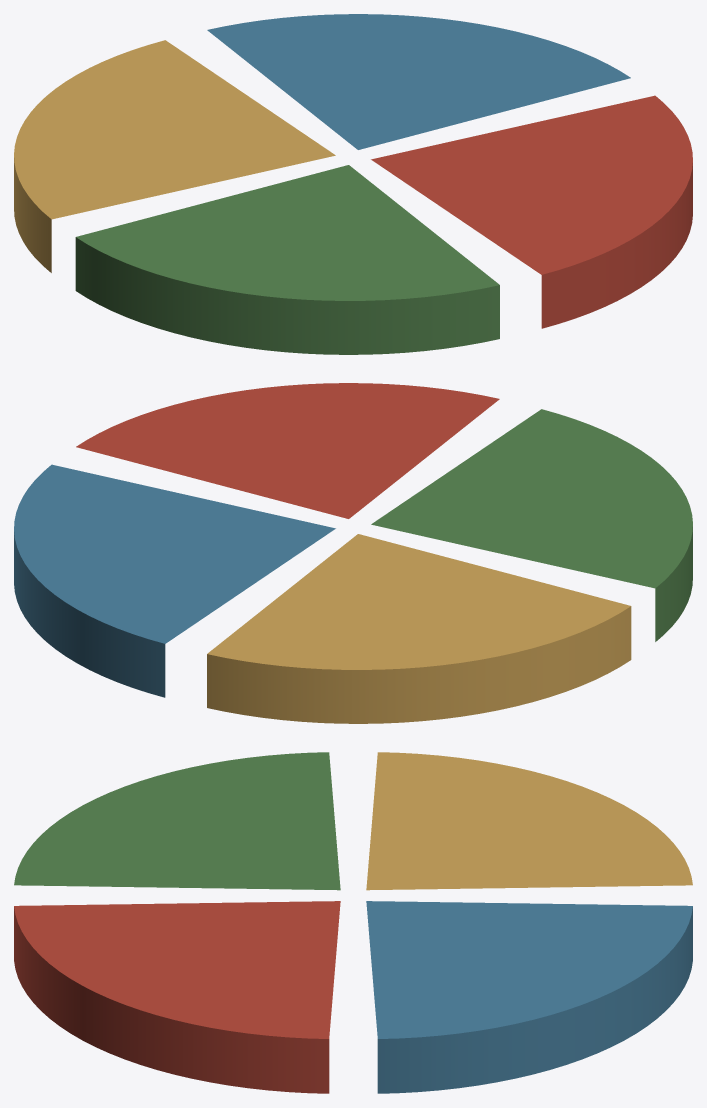
File: wp-disque-de-fractions-en-quarts.glb
The picture shows the model from 3 angles, top to bottom: view 1: azimuth 30°, elevation 25°; view 2: azimuth 150°, elevation 25°; view 3: azimuth 270°, elevation 25°; orthographic projection.
Visible parts, largest first — view 1: fraction-1-4 (×4); view 2: fraction-1-4 (×4); view 3: fraction-1-4 (×4).
Boxes of the visible parts, x1=… form: fraction-1-4 (×4): x1=14, y1=14, x2=692, y2=354; fraction-1-4 (×4): x1=14, y1=383, x2=692, y2=723; fraction-1-4 (×4): x1=14, y1=752, x2=692, y2=1093.
Size of the model in its own units: 0.45 by 0.04 by 0.45.
